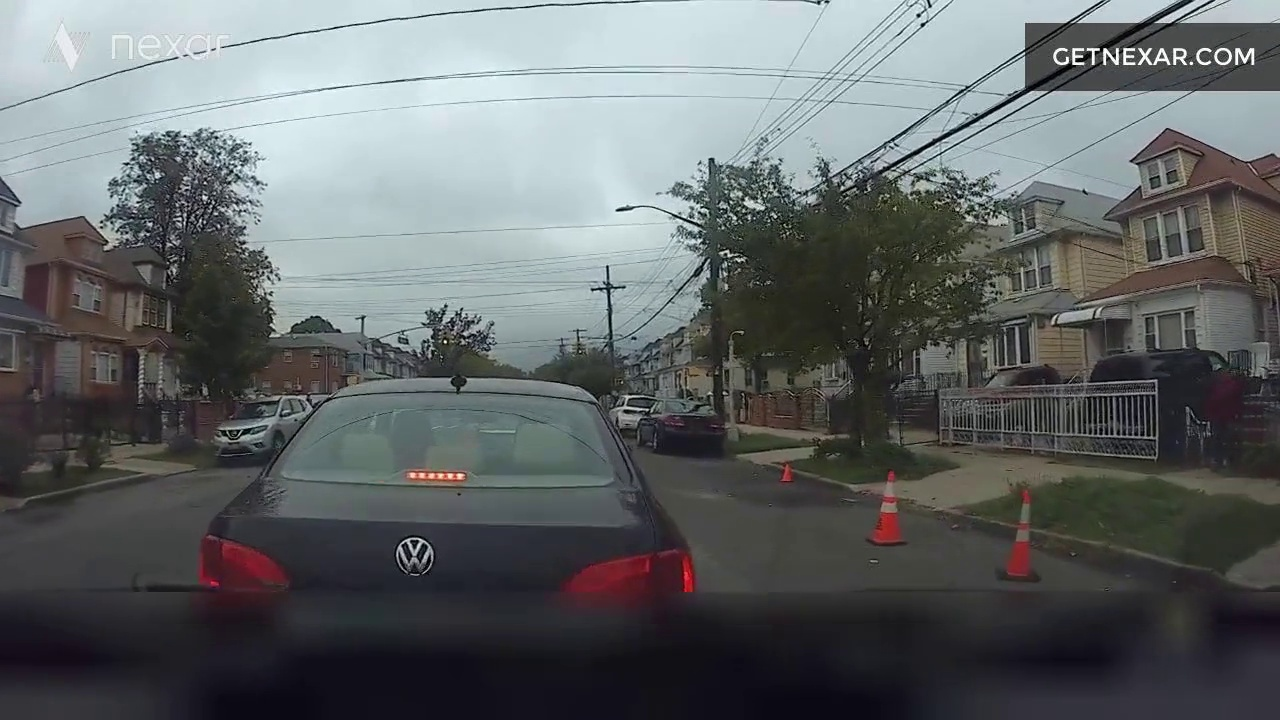car: (257, 364, 611, 679), (1083, 316, 1198, 485), (187, 365, 306, 473), (620, 368, 728, 476), (964, 327, 1051, 453)
person: (1204, 338, 1244, 503)
